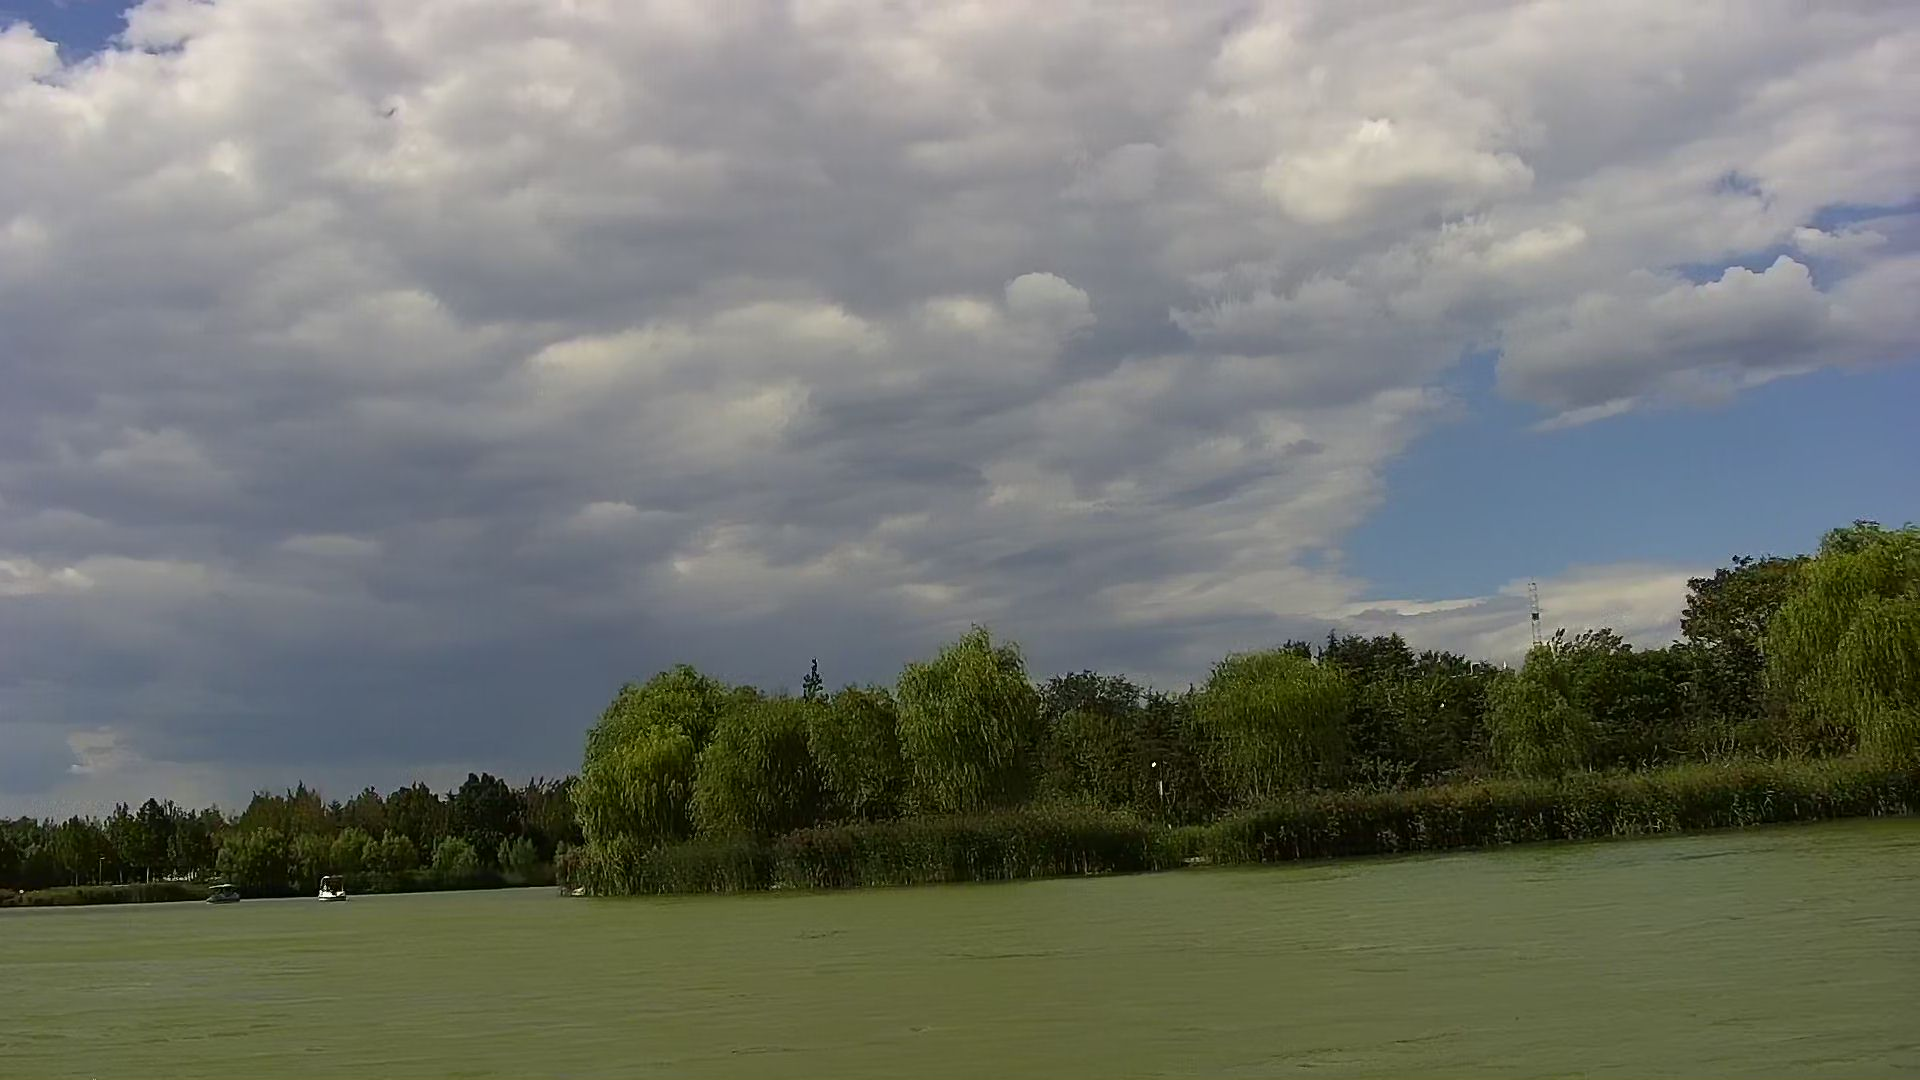boat: (202, 882, 249, 907), (316, 874, 349, 903)
